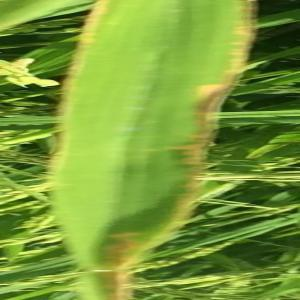2 BacterialBlight: (50, 4, 257, 291)
